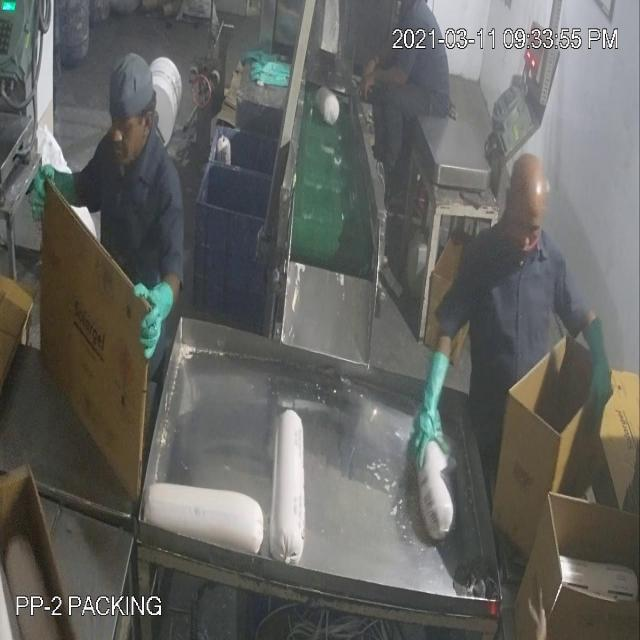No_Gloves: (46, 54, 596, 404)
